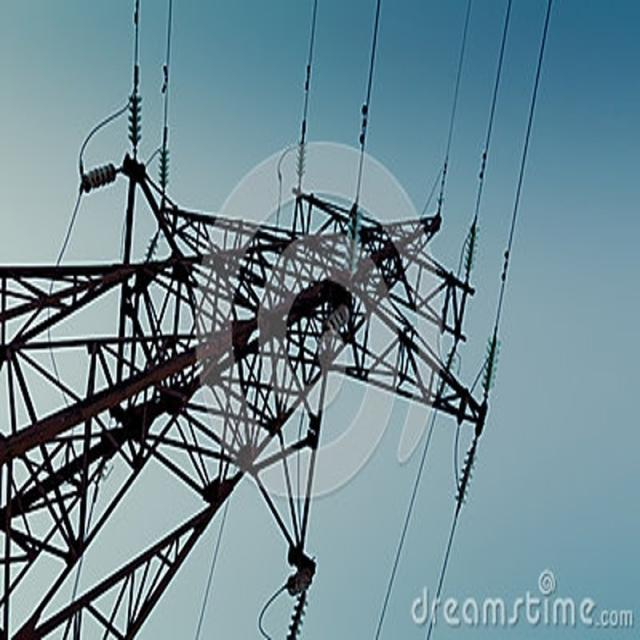non-critical vegetation: (5, 176, 509, 634)
